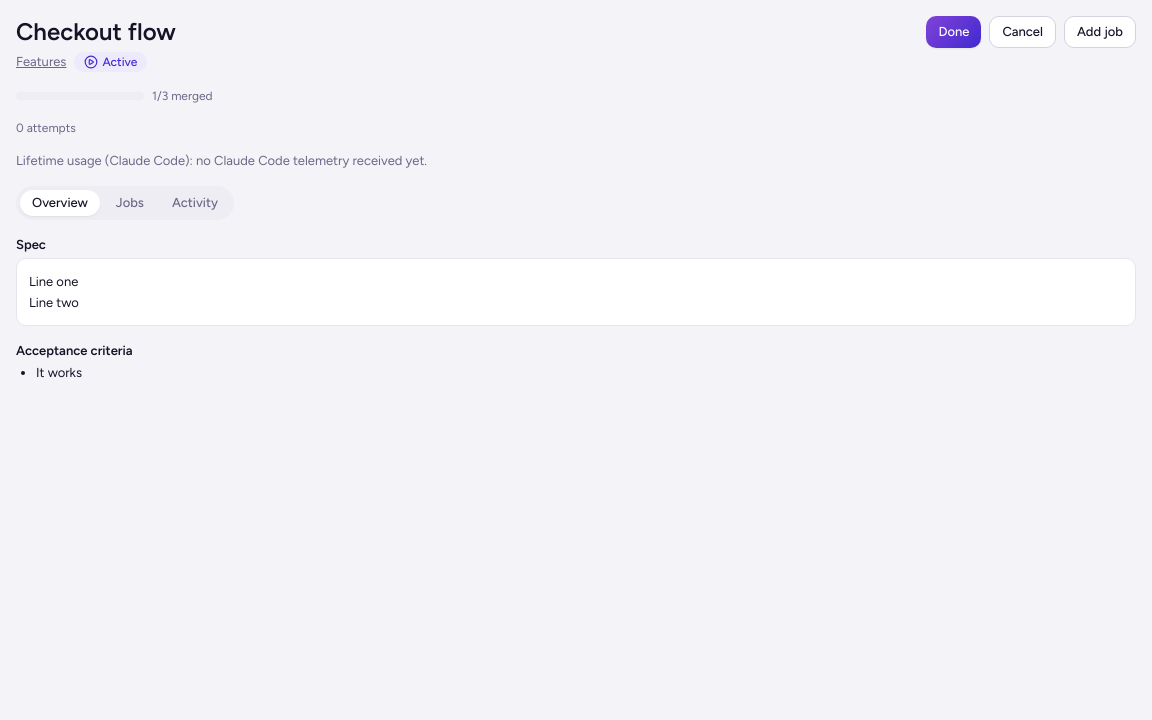
Scenario: FeatureDetailView › lists open jobs after done and left-running jobs after cancel
Click the button "Done".
click(954, 32)  # box left=926, top=16, right=982, bottom=48
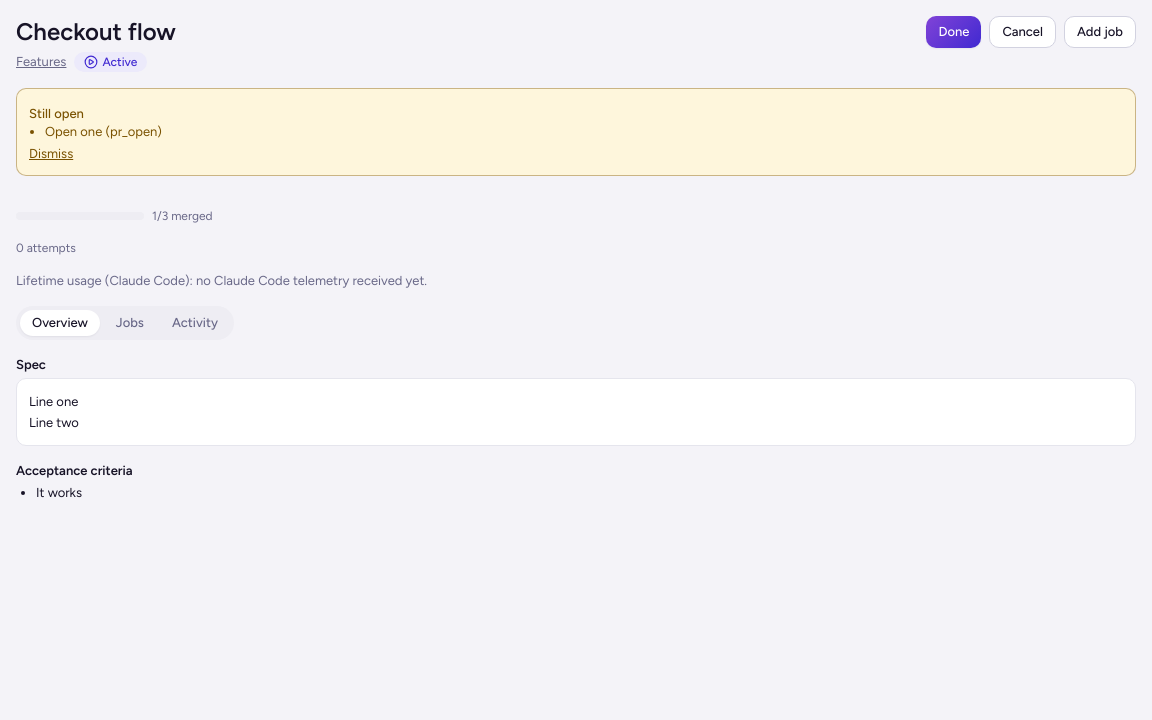
Check: the list item "Open one (pr_open)" is shown, box left=45, top=124, right=162, bottom=139
